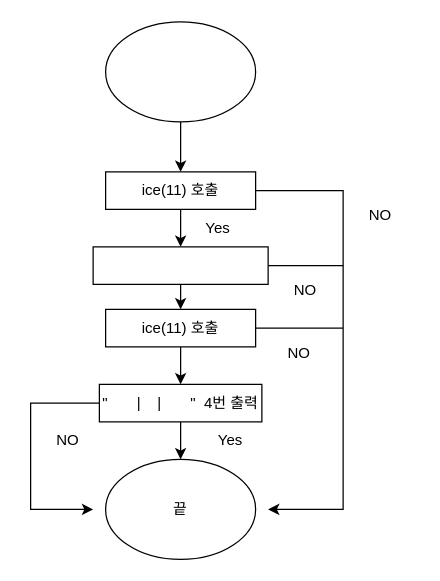
Some shapes in this 440 by 581 pixel diagram are drawn without their labels. Here are the shapes that lost their labels. From the top down, the box of each, then its label:
(104, 21, 256, 122): 시작
(92, 246, 268, 284): "*************" 11번 출력
